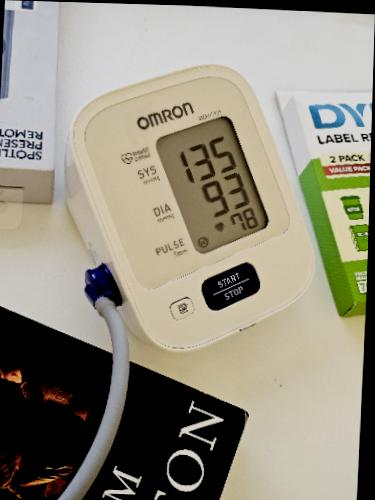bpm: (151, 110, 274, 259)
